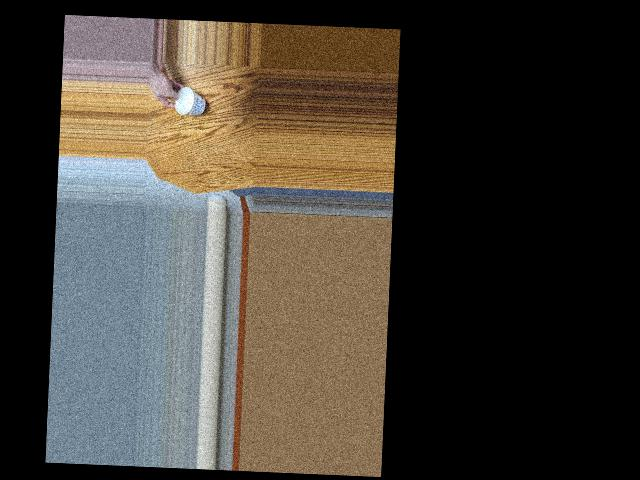cotage: (174, 92, 208, 115)
